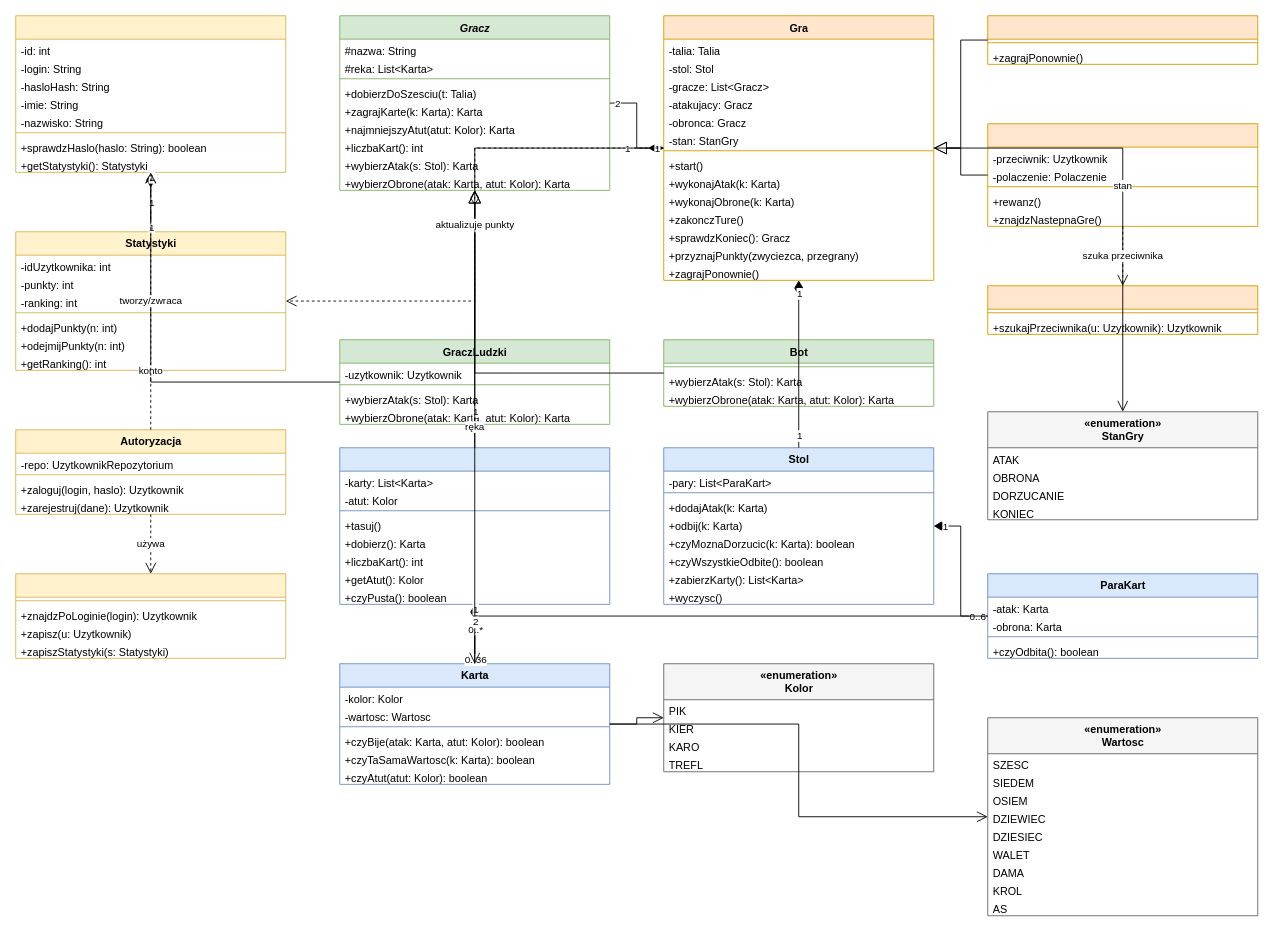
The diagram is 1274 pixels wide and 934 high, and some of its shapes have lost their labels. Each missing label, with the box of its shape:
GraOnline: (987, 123, 1258, 226)
GraZBotem: (987, 15, 1258, 64)
Matchmaking: (987, 285, 1258, 334)
Talia: (339, 447, 610, 604)
Uzytkownik: (15, 15, 286, 172)
UzytkownikRepozytorium: (15, 573, 286, 658)
